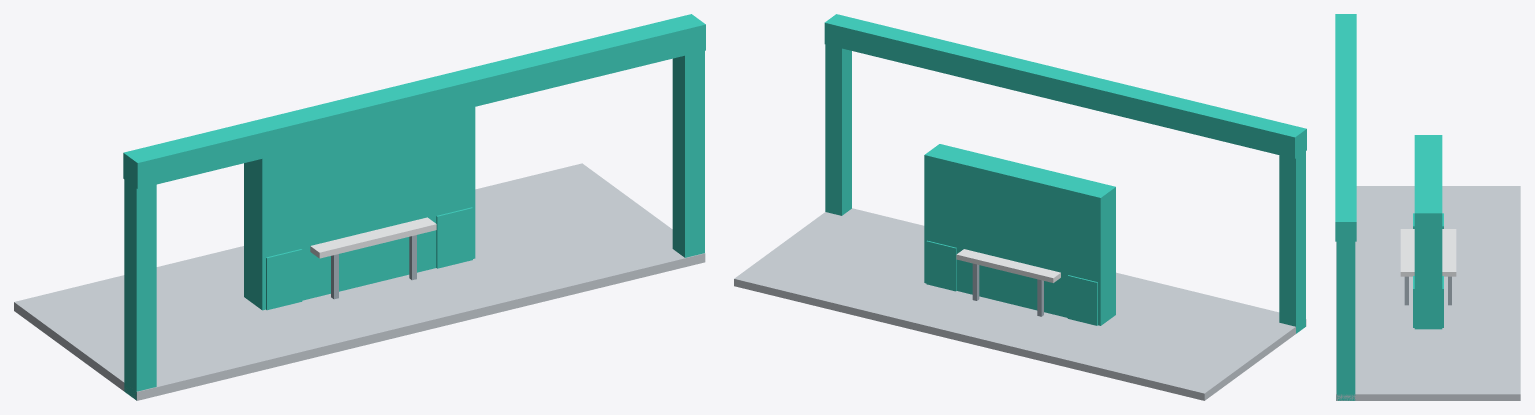
3 renders of one model, left to right at view 1: azimuth 30°, elevation 25°; view 2: azimuth 150°, elevation 25°; view 3: azimuth 270°, elevation 25°, orthographic. The views are drawn at different scales.
Visible parts, largest first — view 1: Exhibition Booth Concept; view 2: Exhibition Booth Concept; view 3: Exhibition Booth Concept.
Part boxes in pixels (box(x1,y1,x2,y2)): Exhibition Booth Concept: box(14, 14, 705, 400); Exhibition Booth Concept: box(734, 14, 1306, 400); Exhibition Booth Concept: box(1335, 14, 1520, 400).
Size of the model in its own units: 8 by 3.2 by 3.01.
